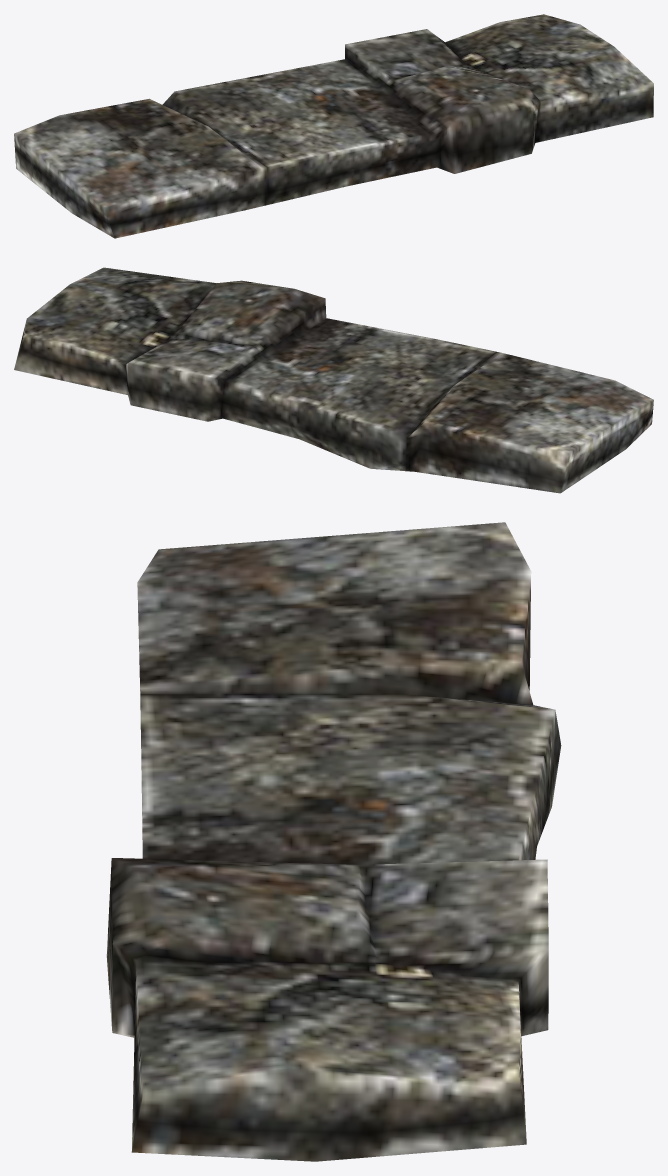
The model's file is Stair3.fbx.
3 views of the same model, one above another, from view 1: azimuth 30°, elevation 25°; view 2: azimuth 150°, elevation 25°; view 3: azimuth 270°, elevation 25° (orthographic). The views are drawn at different scales.
Parts seen in each view (by area): view 1: polySurface3; view 2: polySurface3; view 3: polySurface3.
Boxes of the visible parts, x1,y1,x2,y2 form: polySurface3: [14, 14, 653, 238]; polySurface3: [14, 267, 653, 493]; polySurface3: [106, 522, 561, 1161].
Bounding box in the file's own units: 8.76 × 0.893 × 3.13.
